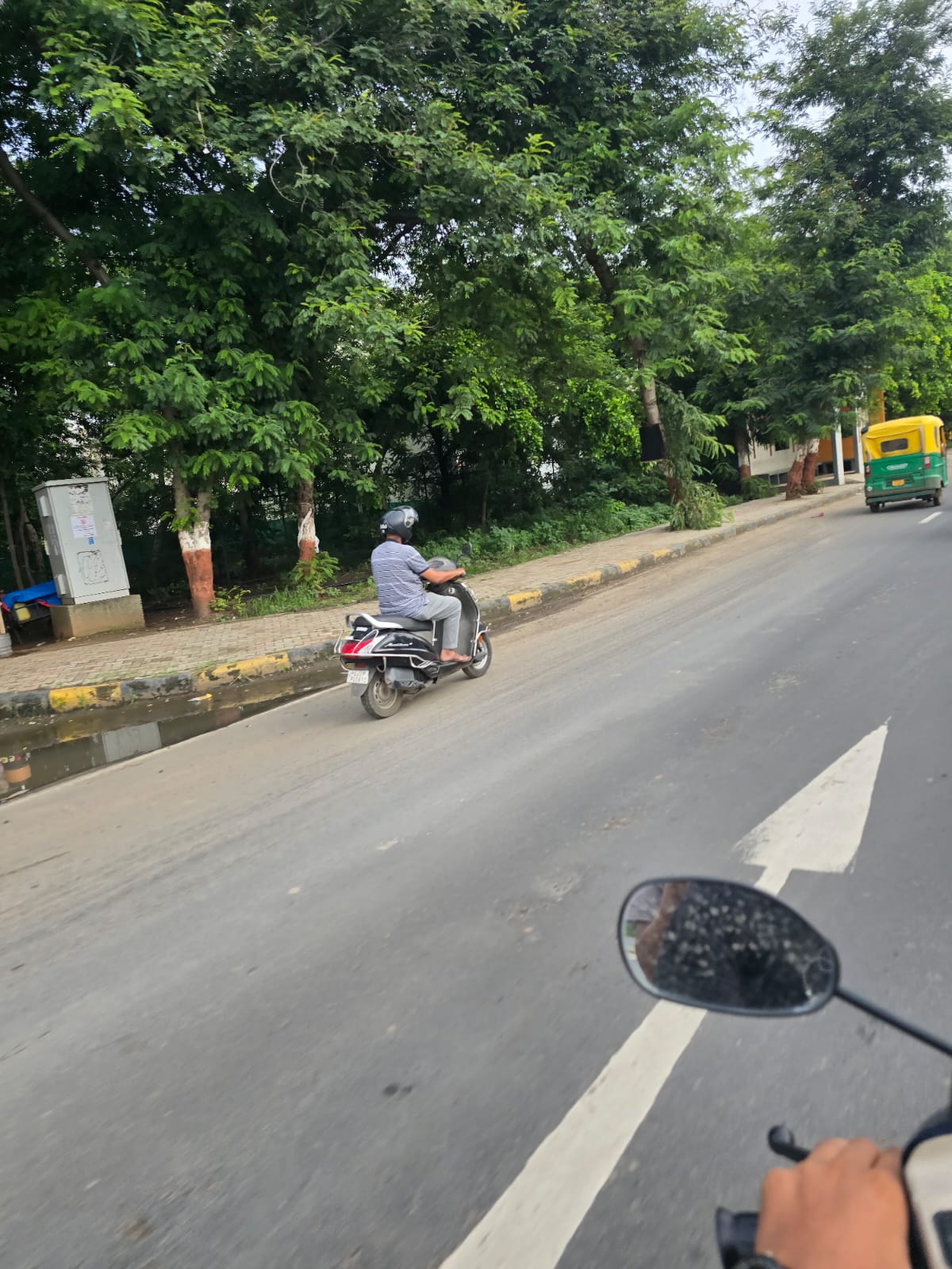BikeWithRider: (324, 473, 502, 724)
Helmet: (370, 490, 428, 559)
